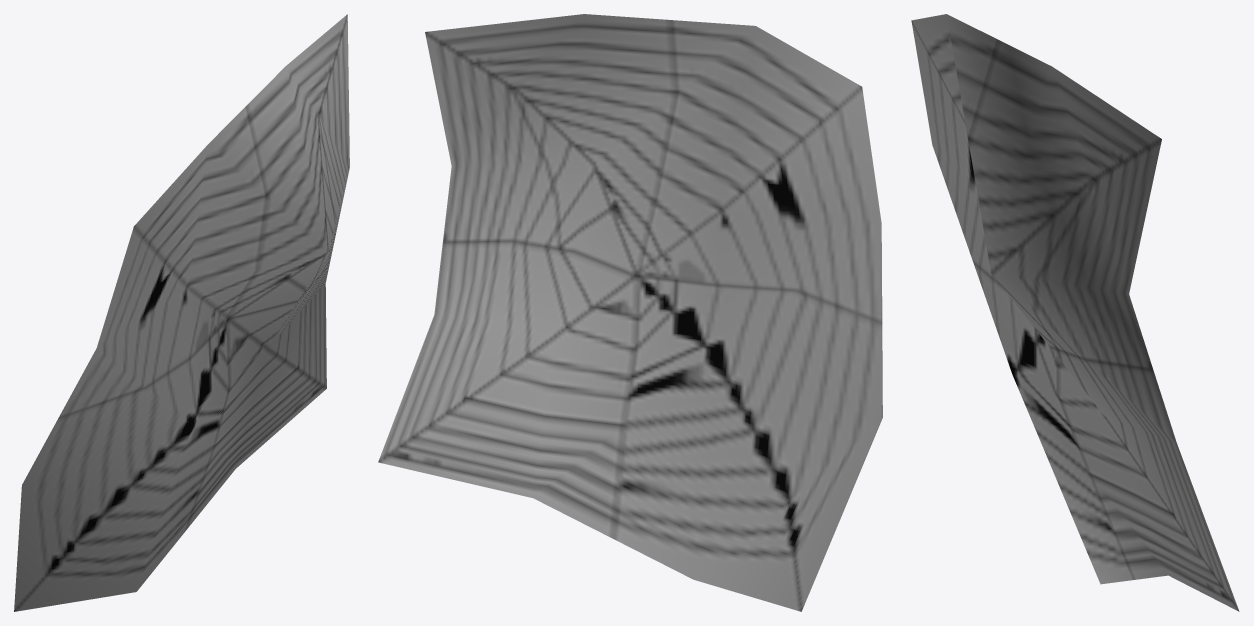
Rendered from a_spiderline01_mirrorx.glb.
3 views of the same model, side by side, from view 1: azimuth 30°, elevation 25°; view 2: azimuth 150°, elevation 25°; view 3: azimuth 270°, elevation 25° (orthographic). The views are drawn at different scales.
Visible parts, largest first — view 1: a_spiderline01_mirrorx; view 2: a_spiderline01_mirrorx; view 3: a_spiderline01_mirrorx.
Boxes of the visible parts, x1,y1,x2,y2 form: a_spiderline01_mirrorx: [14, 14, 349, 611]; a_spiderline01_mirrorx: [378, 14, 882, 611]; a_spiderline01_mirrorx: [911, 14, 1239, 611].
Size of the model in its own units: 0.9889 by 1.2 by 0.6056.
1 material, 1 textured.
